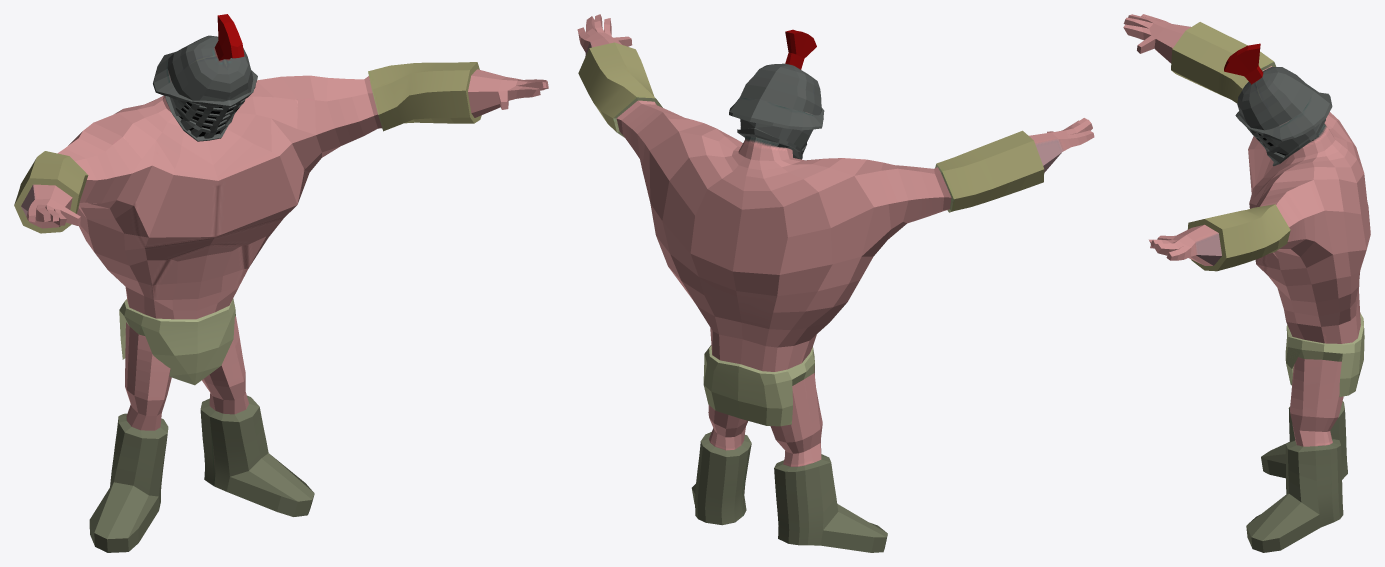
Rendered from GladiatorCelebracion_000531.obj.
3 renders of one model, left to right at view 1: azimuth 30°, elevation 25°; view 2: azimuth 150°, elevation 25°; view 3: azimuth 270°, elevation 25°, orthographic. The views are drawn at different scales.
Parts seen in each view (by area): view 1: Gadiador_Gladiador_H; view 2: Gadiador_Gladiador_H; view 3: Gadiador_Gladiador_H.
Part boxes in pixels (<box>): Gadiador_Gladiador_H: <box>14,14,548,552</box>; Gadiador_Gladiador_H: <box>577,14,1094,552</box>; Gadiador_Gladiador_H: <box>1123,14,1370,552</box>.
Bounding box in the file's own units: 7.89 × 7.31 × 3.51.
1 material, 1 textured.
